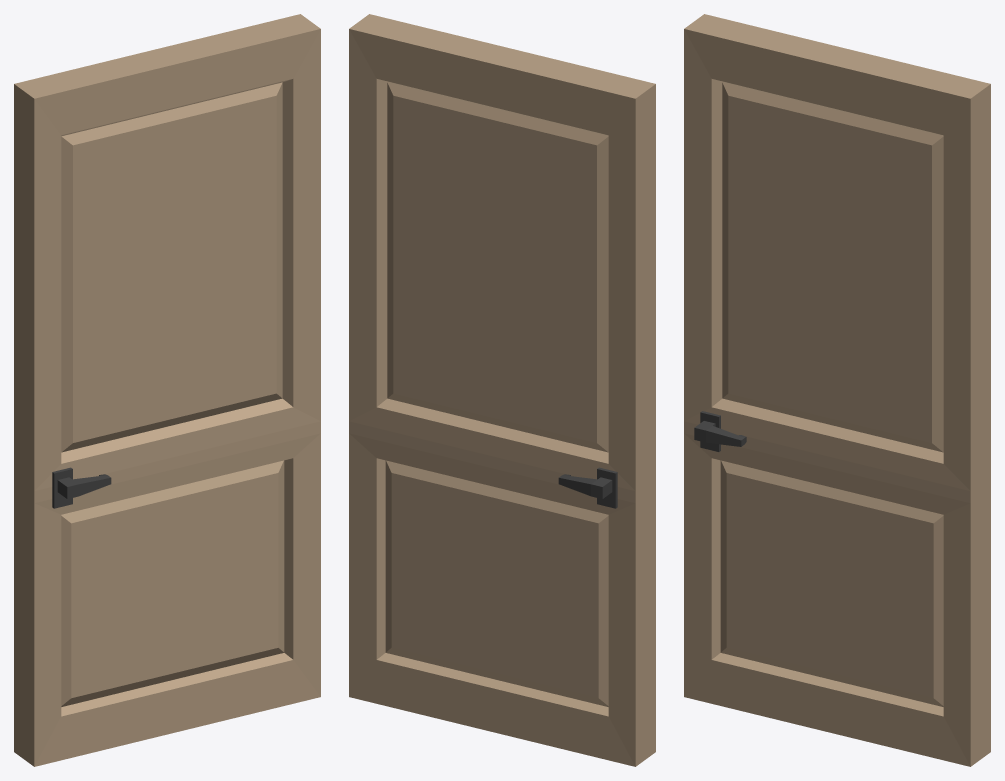
Rendered from Door_02.fbx.
3 views of the same model, side by side, from view 1: azimuth 30°, elevation 25°; view 2: azimuth 150°, elevation 25°; view 3: azimuth 330°, elevation 25° (orthographic).
Parts seen in each view (by area): view 1: Door_02; view 2: Door_02; view 3: Door_02.
Part boxes in pixels (<box>): Door_02: <box>14,14,320,766</box>; Door_02: <box>349,14,655,766</box>; Door_02: <box>684,14,990,766</box>.
Bounding box in the file's own units: 91.51 × 204 × 23.8.
